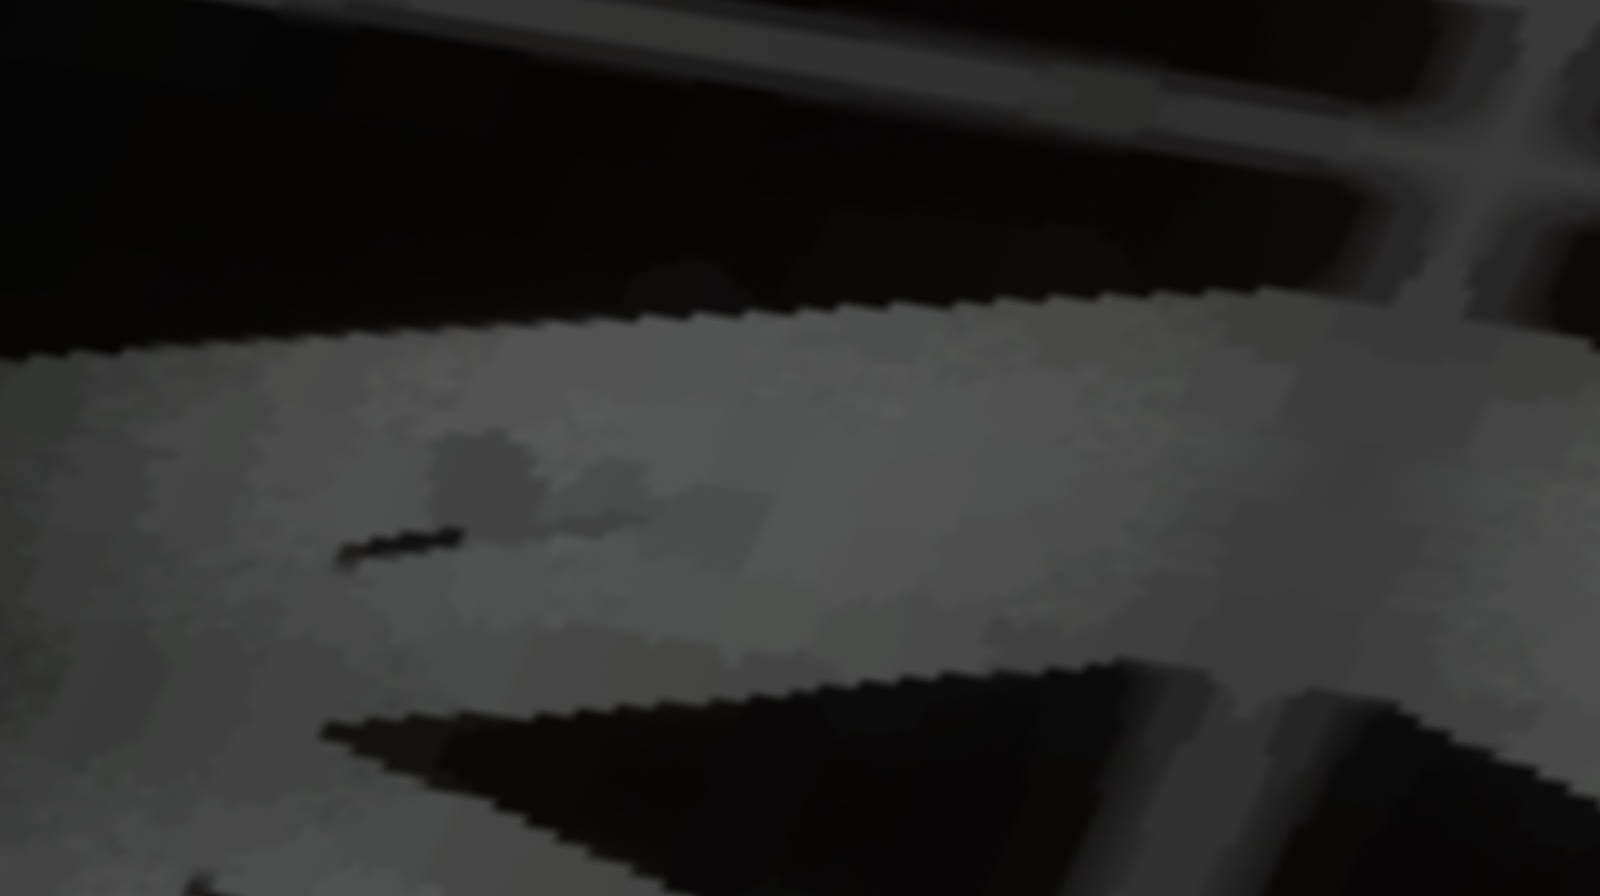S002: (291, 424, 746, 642)
